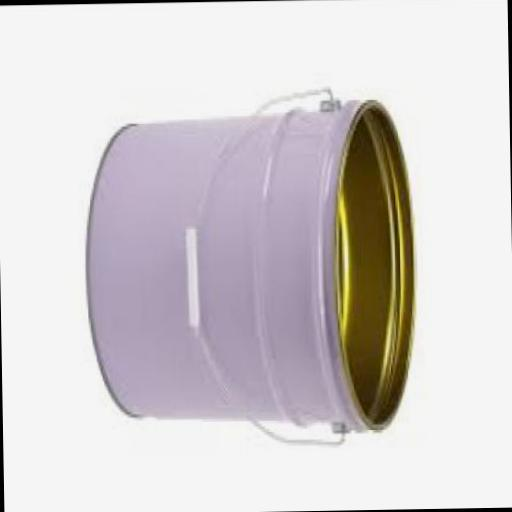metal: (85, 87, 416, 445)
